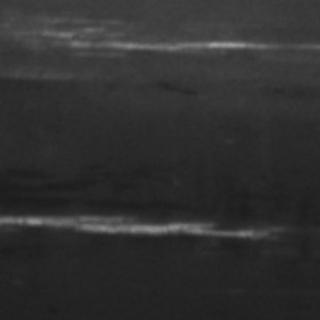scratches: (18, 17, 298, 58), (0, 207, 272, 243)
